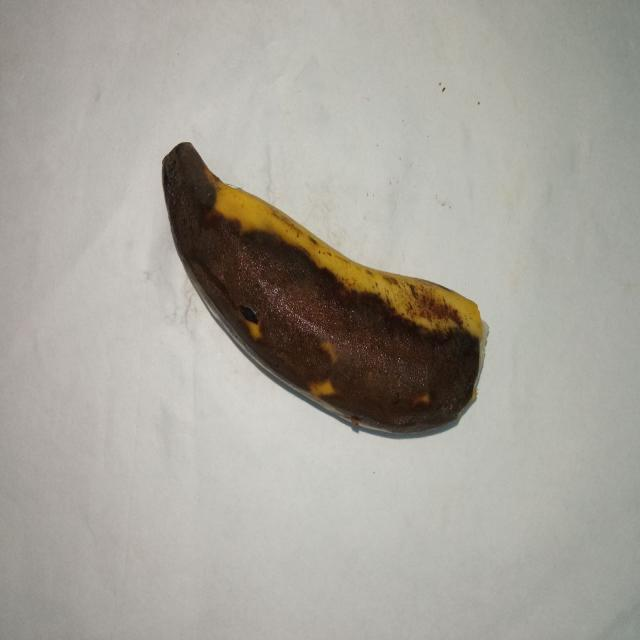rotten_banana: (160, 142, 484, 438)
